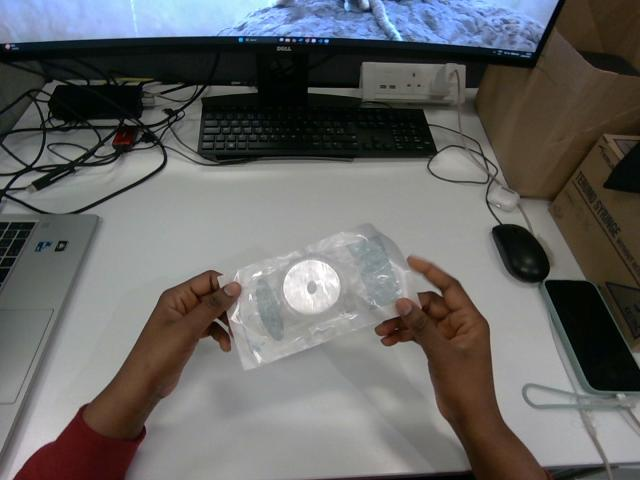gallipot: (220, 224, 417, 369)
